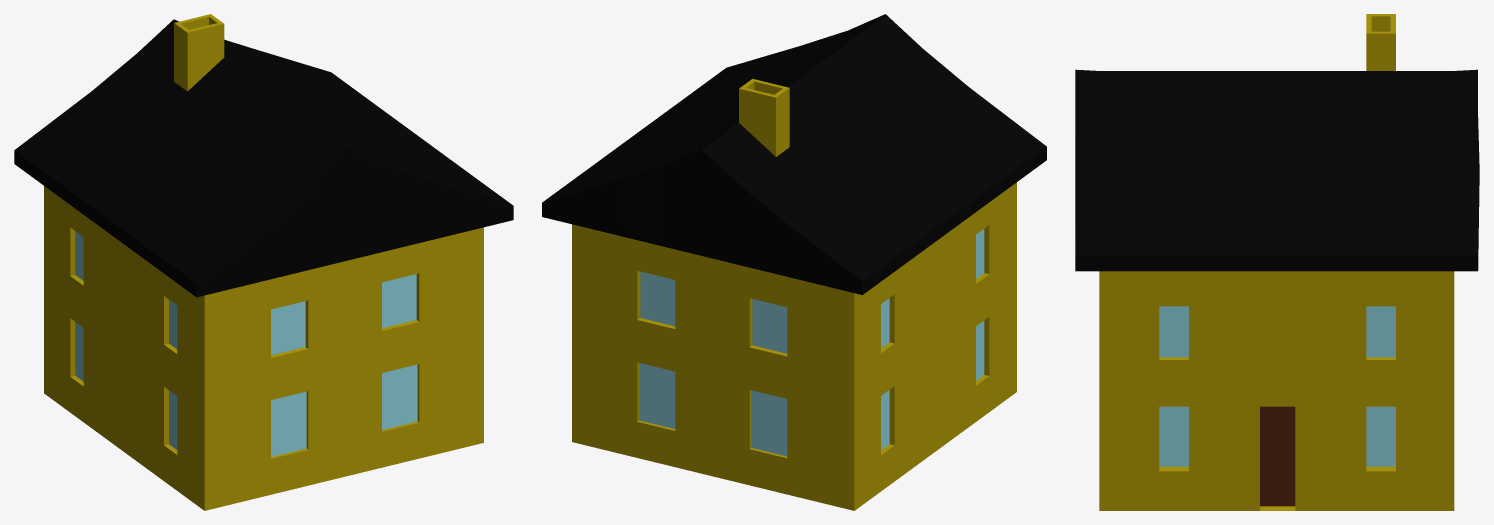
Rendered from Houses05.fbx.
The picture shows the model from 3 angles, left to right: view 1: azimuth 30°, elevation 25°; view 2: azimuth 150°, elevation 25°; view 3: azimuth 270°, elevation 25°; orthographic projection. The views are drawn at different scales.
Parts seen in each view (by area): view 1: Plane.007; view 2: Plane.007; view 3: Plane.007.
Part boxes in pixels (x1=…): Plane.007: x1=14, y1=14, x2=513, y2=510; Plane.007: x1=542, y1=14, x2=1046, y2=510; Plane.007: x1=1075, y1=14, x2=1479, y2=510.
Size of the model in its own units: 400 by 439 by 400.
